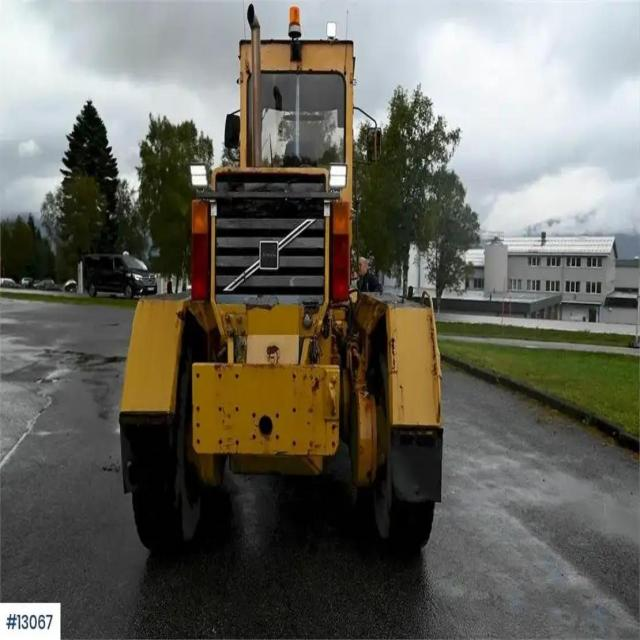Grader: (116, 12, 470, 574)
